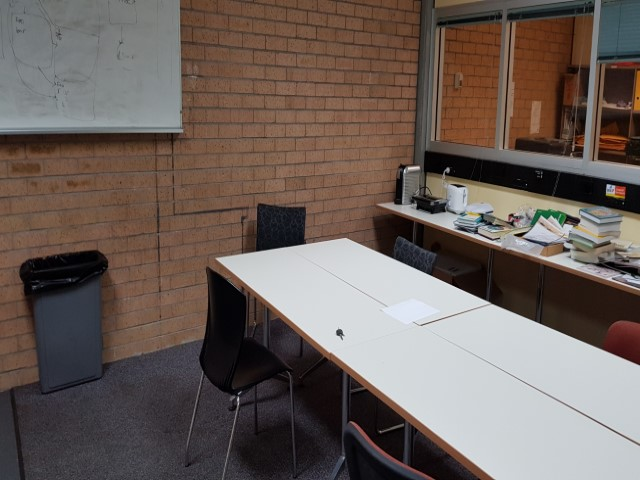key: (336, 329, 345, 341)
